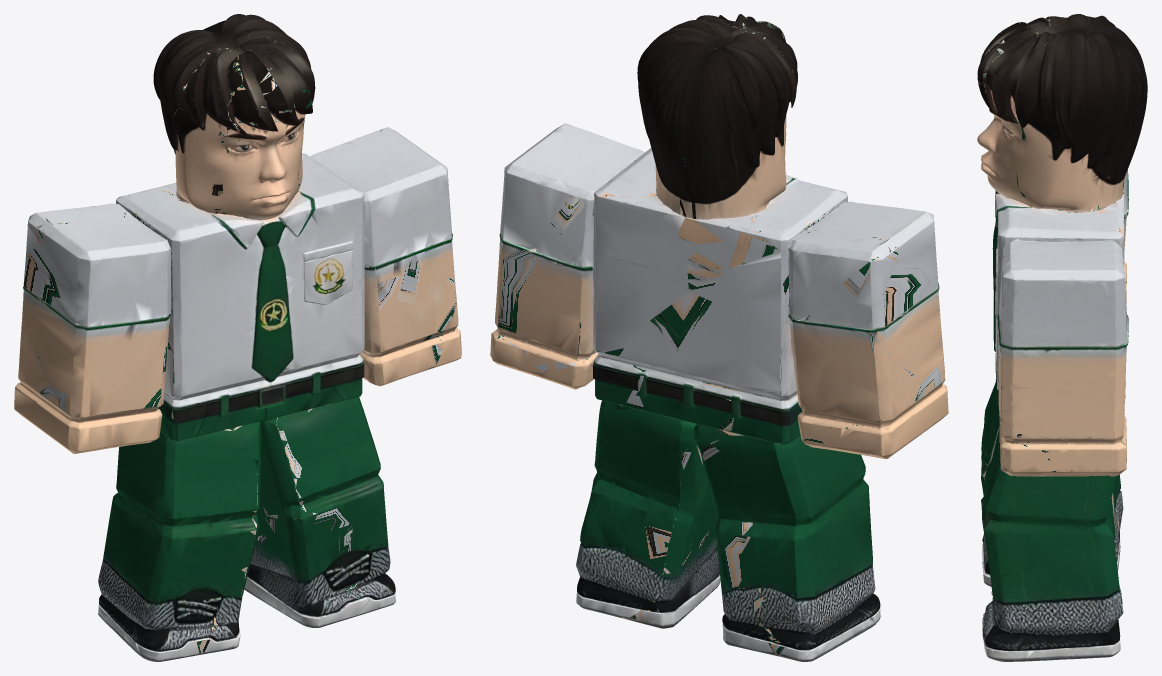
The model's file is kengkue_day.glb.
3 renders of one model, left to right at view 1: azimuth 30°, elevation 25°; view 2: azimuth 150°, elevation 25°; view 3: azimuth 270°, elevation 25°, orthographic. The views are drawn at different scales.
Visible parts, largest first — view 1: model; view 2: model; view 3: model.
Boxes of the visible parts, bbox=[...] form: model: bbox=[14, 14, 461, 661]; model: bbox=[490, 14, 948, 661]; model: bbox=[977, 14, 1147, 661].
Size of the model in its own units: 1.35 by 1.9 by 0.5049.
1 material, 1 textured.
